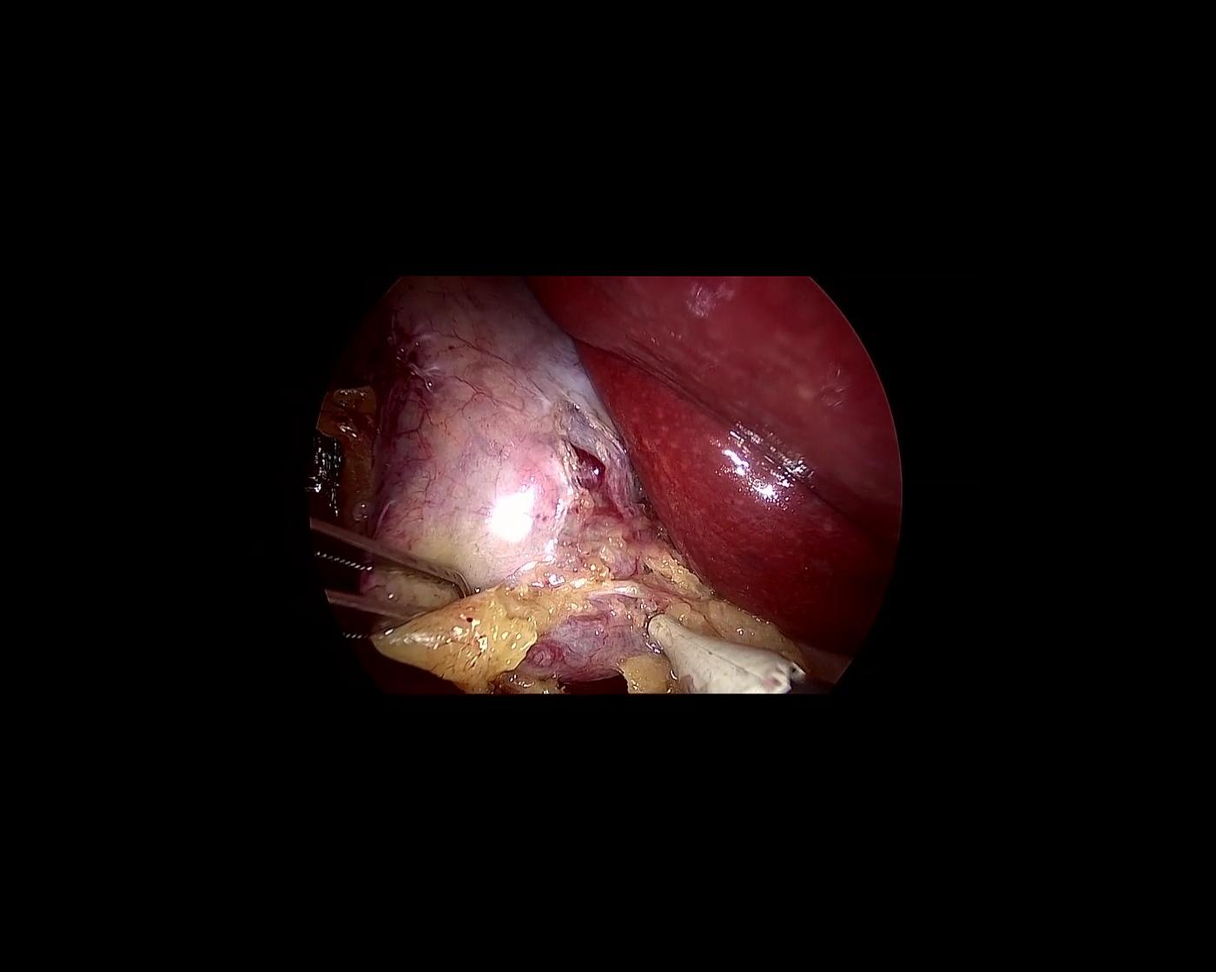Cautery: (633, 610, 810, 729)
Forceps: (274, 514, 475, 672)
Gallbladder: (359, 276, 656, 694)
Liver: (529, 154, 990, 706)
